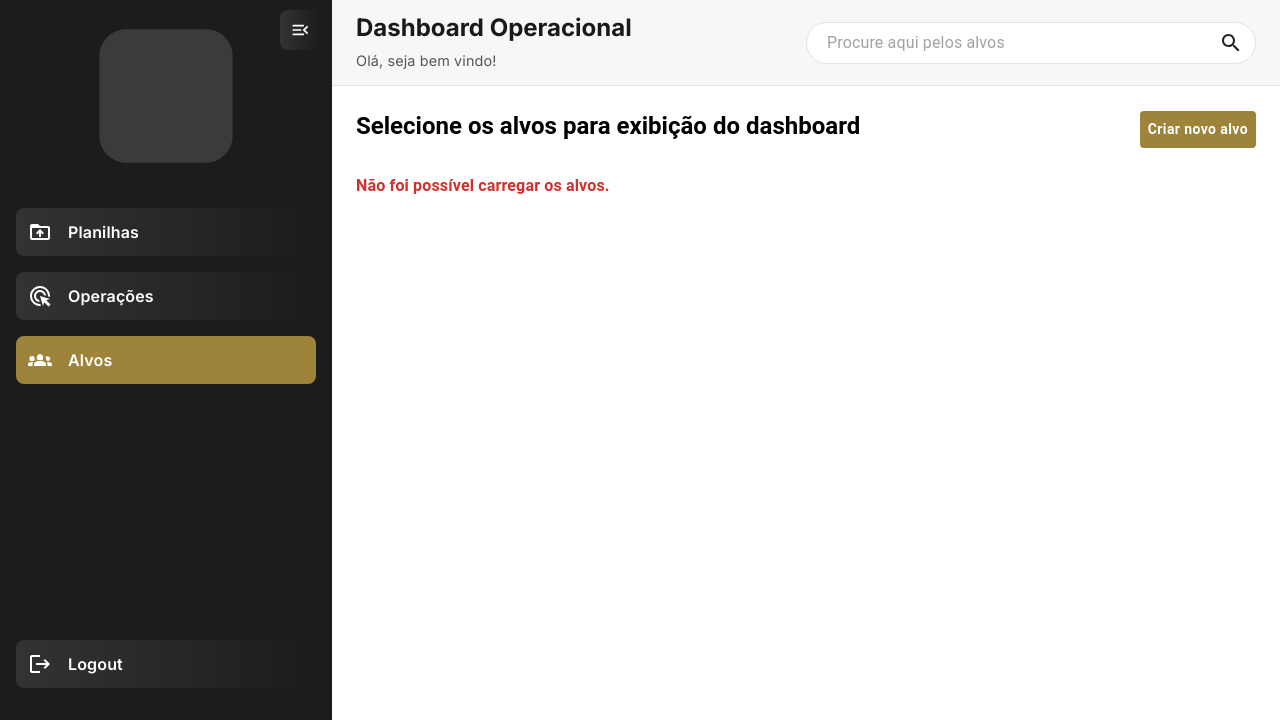
Scenario: Teste de Alvos - Criação e Seleção › Deve permitir fechar o modal sem criar alvo
Expected: the heading "Selecione os alvos para exibição do dashboard" is shown, left=356, top=110, right=860, bottom=142
Clica no botão "Criar novo alvo"
Click the button "Criar novo alvo" at point(1198, 130), box left=1140, top=111, right=1256, bottom=148
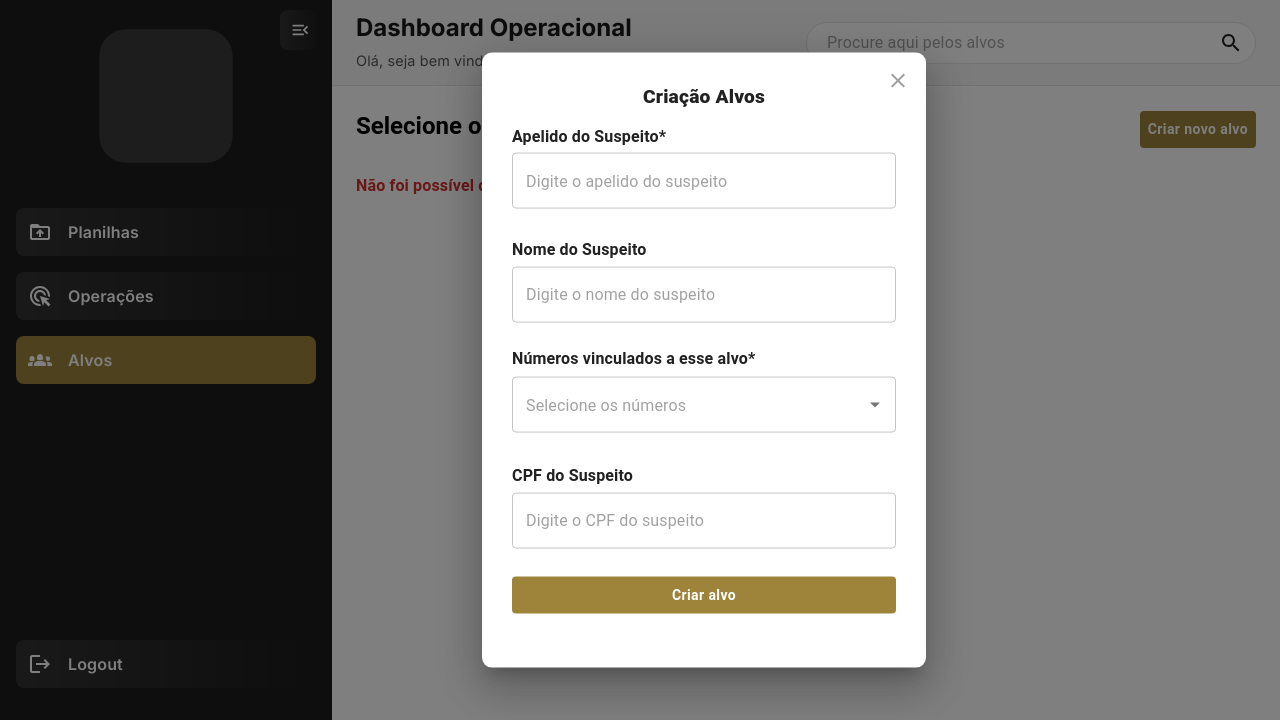
Expected: the dialog is shown, left=482, top=53, right=926, bottom=668
Clica no botão X para fechar
Click the button named "close" at point(898, 81), box left=878, top=61, right=918, bottom=101
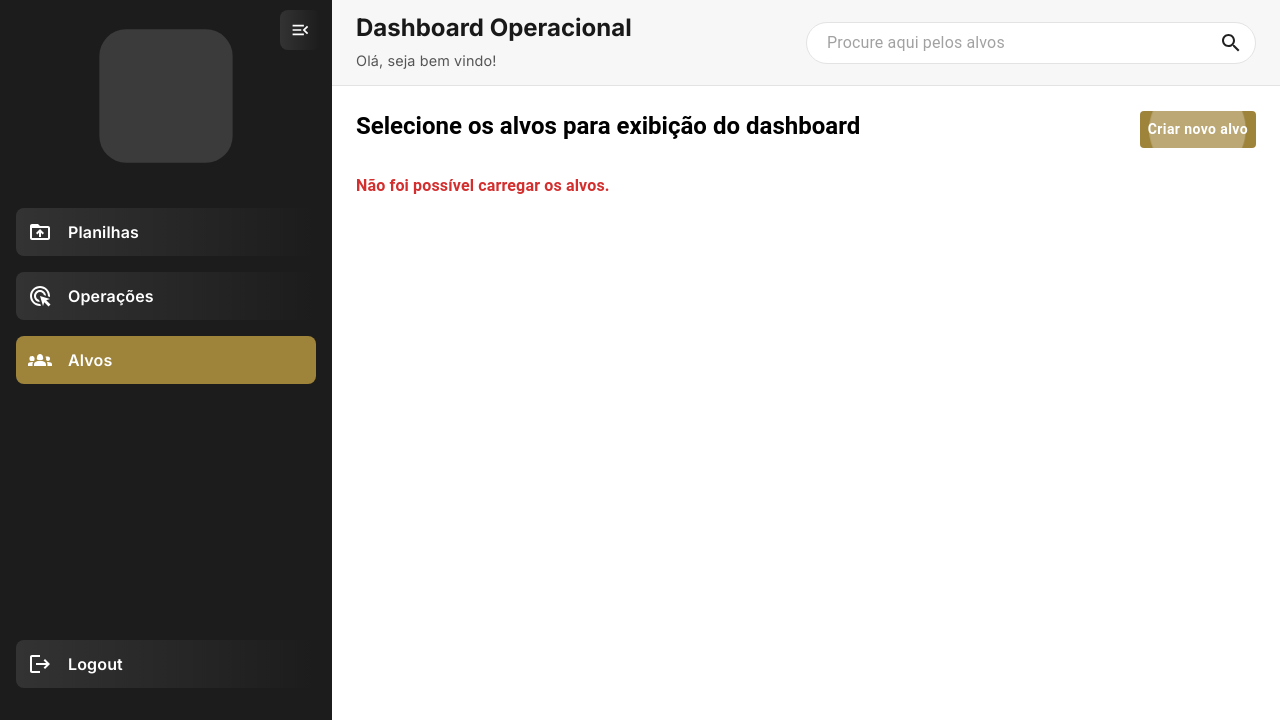
Expected: the dialog is gone
